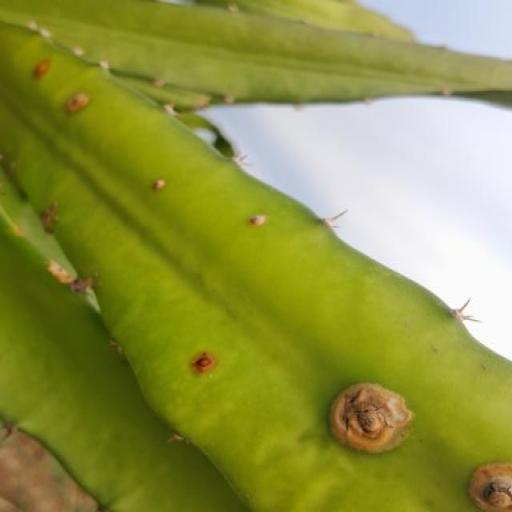stemcanker: (232, 284, 264, 311), (335, 332, 353, 359)
